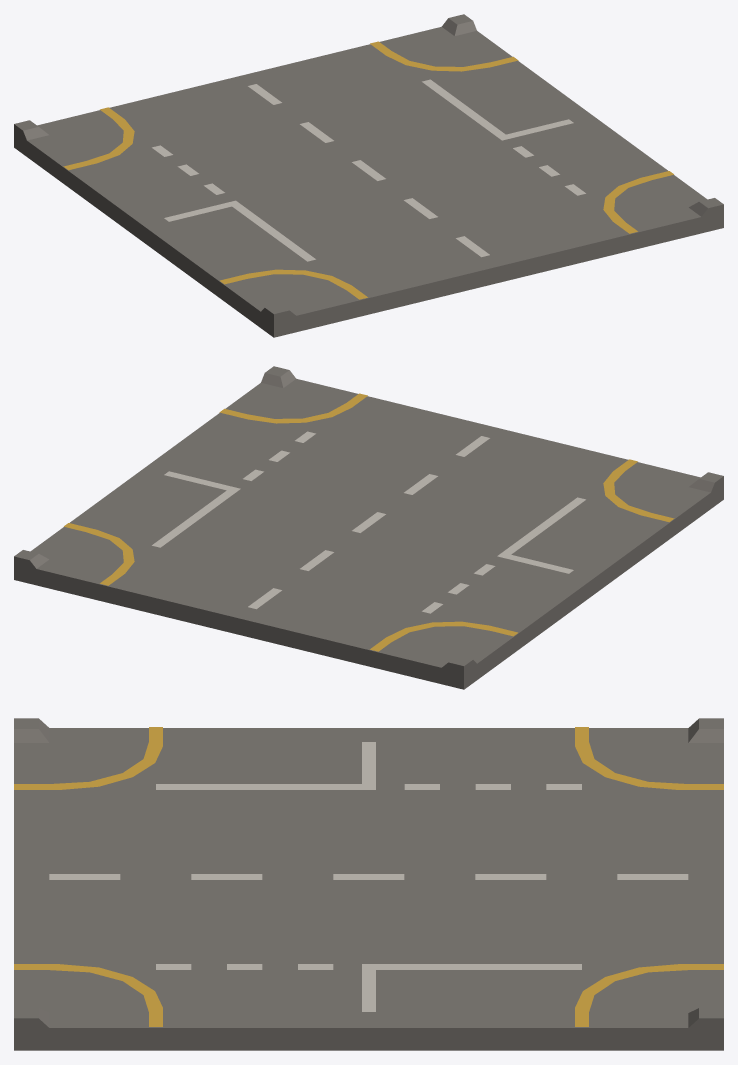
Rendered from road_junction.gltf.
The picture shows the model from 3 angles, top to bottom: view 1: azimuth 30°, elevation 25°; view 2: azimuth 150°, elevation 25°; view 3: azimuth 270°, elevation 25°; orthographic projection. The views are drawn at different scales.
Visible parts, largest first — view 1: road_junction; view 2: road_junction; view 3: road_junction.
Part boxes in pixels (left/top/right/bottom): road_junction: left=14, top=14, right=723, bottom=337; road_junction: left=14, top=366, right=723, bottom=689; road_junction: left=14, top=718, right=723, bottom=1050.
Size of the model in its own units: 6 by 0.3 by 6.
